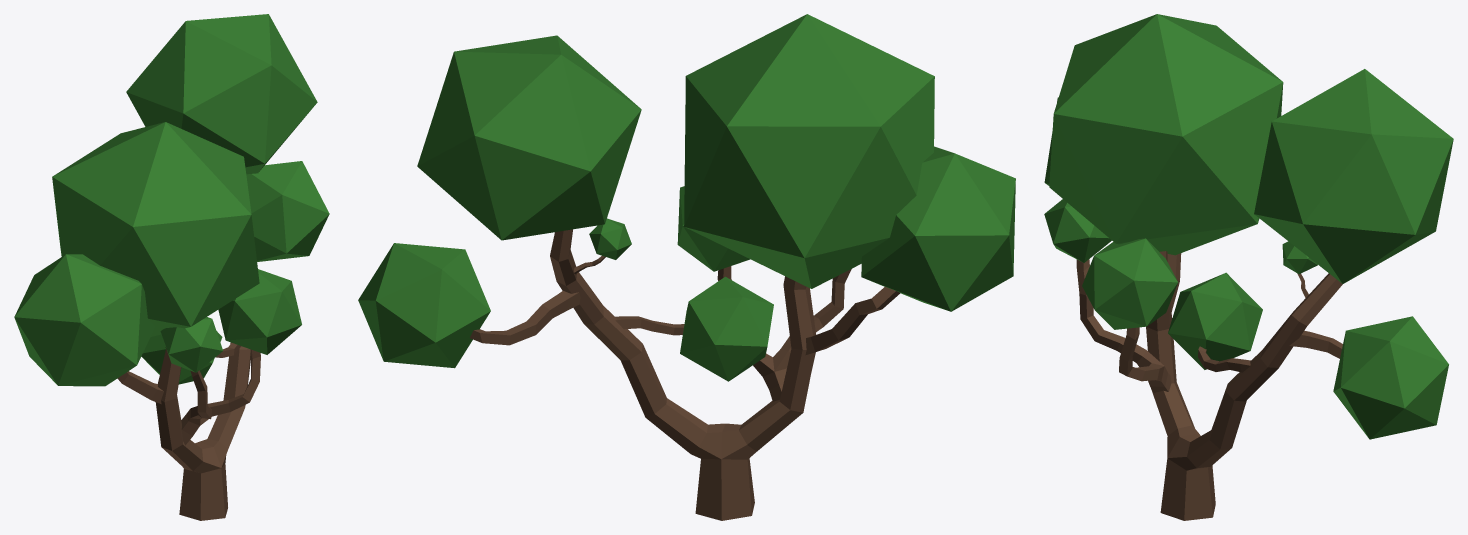
The model's file is AcaciaTreeFinalModel.fbx.
3 renders of one model, left to right at view 1: azimuth 30°, elevation 25°; view 2: azimuth 150°, elevation 25°; view 3: azimuth 270°, elevation 25°, orthographic. The views are drawn at different scales.
Visible parts, largest first — view 1: AcaciaTreeFinalModel; view 2: AcaciaTreeFinalModel; view 3: AcaciaTreeFinalModel.
Part boxes in pixels (<box>): AcaciaTreeFinalModel: <box>14,14,329,520</box>; AcaciaTreeFinalModel: <box>358,14,1015,520</box>; AcaciaTreeFinalModel: <box>1044,14,1453,520</box>.
Size of the model in its own units: 793 by 752 by 590.
